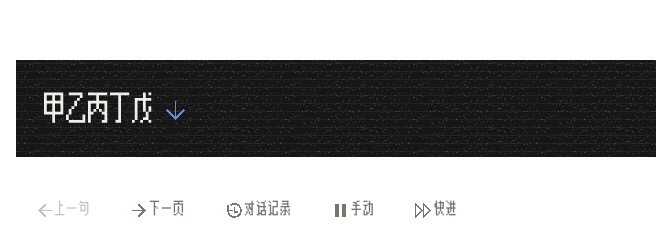
Test: dialogue reading controls › returns to the current sentence safely after resizing during a previous-page review
Step 1. Click the button "下一页" → click(154, 209), box [111, 188, 198, 230]
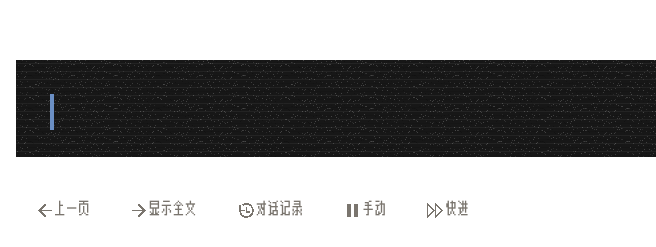
Step 2. Click the button "上一页" → click(59, 209), box [16, 188, 103, 230]
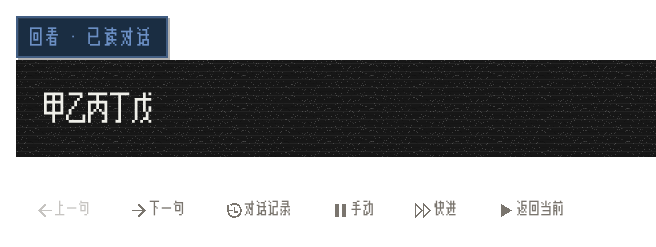
Step 3. Click the button "返回当前" → click(528, 209), box [478, 188, 577, 230]
Wait 80 ms
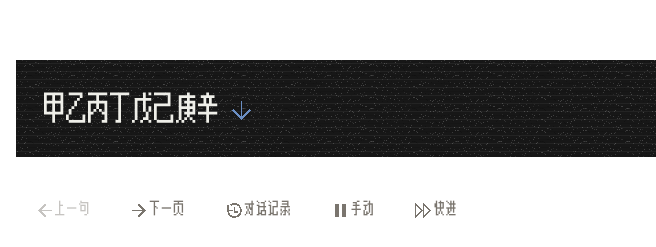
Expected: the text "甲乙丙丁戊己庚辛" is shown, [44, 92, 255, 126]
